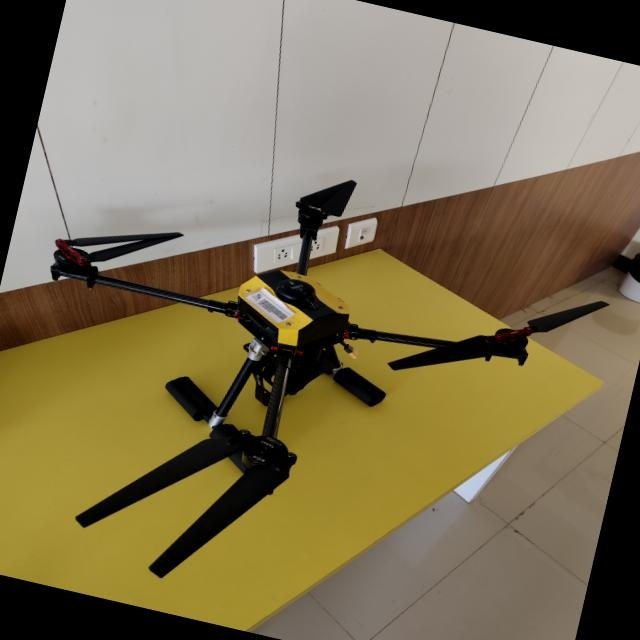quadcopter: (0, 111, 629, 640)
